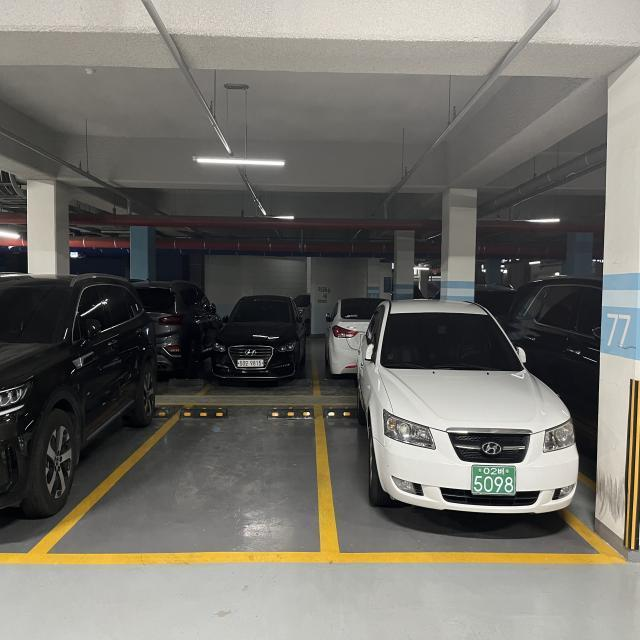Car: (350, 282, 596, 570)
Vacant: (29, 401, 321, 565)
